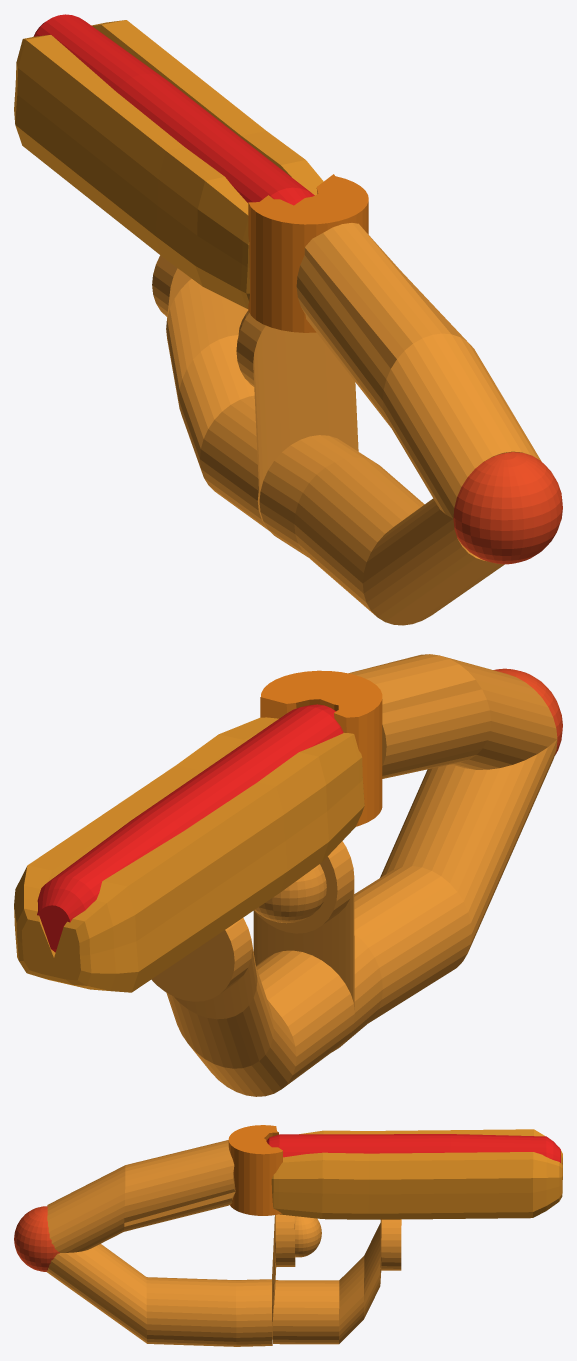
The model's file is hot dog 2gun.glb.
3 views of the same model, one above another, from view 1: azimuth 30°, elevation 25°; view 2: azimuth 150°, elevation 25°; view 3: azimuth 270°, elevation 25° (orthographic). The views are drawn at different scales.
Parts seen in each view (by area): view 1: Cylinder.002, Cube.001, Cylinder.001, Cylinder, Sphere; view 2: Cylinder.002, Cube.001, Cylinder.001, Cylinder, Sphere; view 3: Cylinder.002, Cube.001, Cylinder.001, Cylinder, Sphere.
Boxes of the visible parts, x1,y1,x2,y2 form: Cylinder.002: [152, 223, 541, 625]; Cube.001: [14, 20, 323, 308]; Cylinder.001: [33, 14, 314, 205]; Cylinder: [248, 174, 368, 332]; Sphere: [453, 452, 562, 564]; Cylinder.002: [151, 654, 557, 1096]; Cube.001: [14, 717, 364, 992]; Cylinder.001: [37, 704, 343, 952]; Cylinder: [260, 670, 382, 826]; Sphere: [493, 668, 562, 755]; Cylinder.002: [47, 1140, 401, 1346]; Cube.001: [271, 1129, 562, 1219]; Cylinder.001: [266, 1134, 560, 1162]; Cylinder: [228, 1125, 282, 1215]; Sphere: [14, 1206, 59, 1271].
Size of the model in its own units: 2.54 by 6.8 by 16.64.
